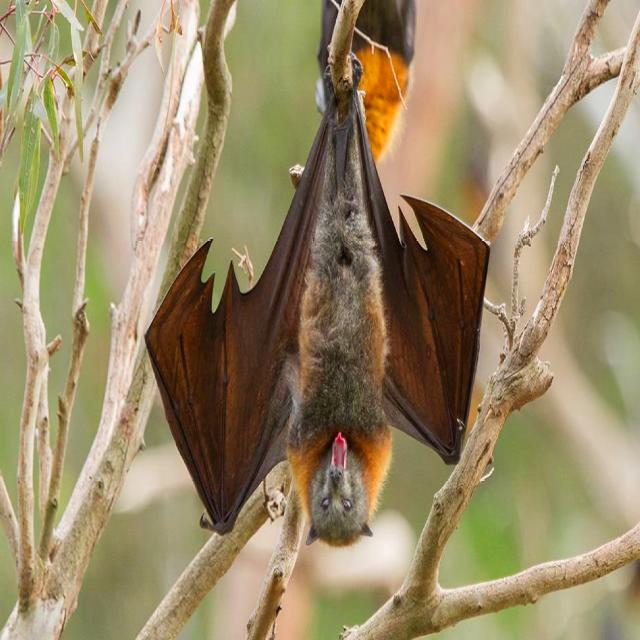bat: (145, 56, 490, 546)
